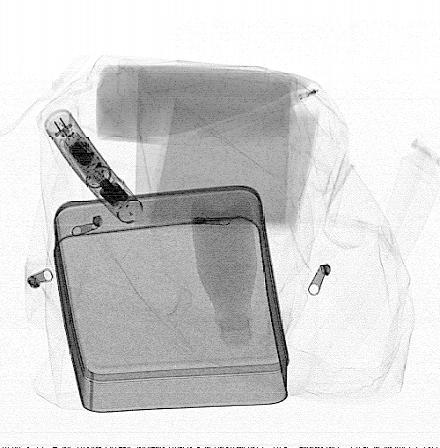Baton: (41, 107, 145, 228)
